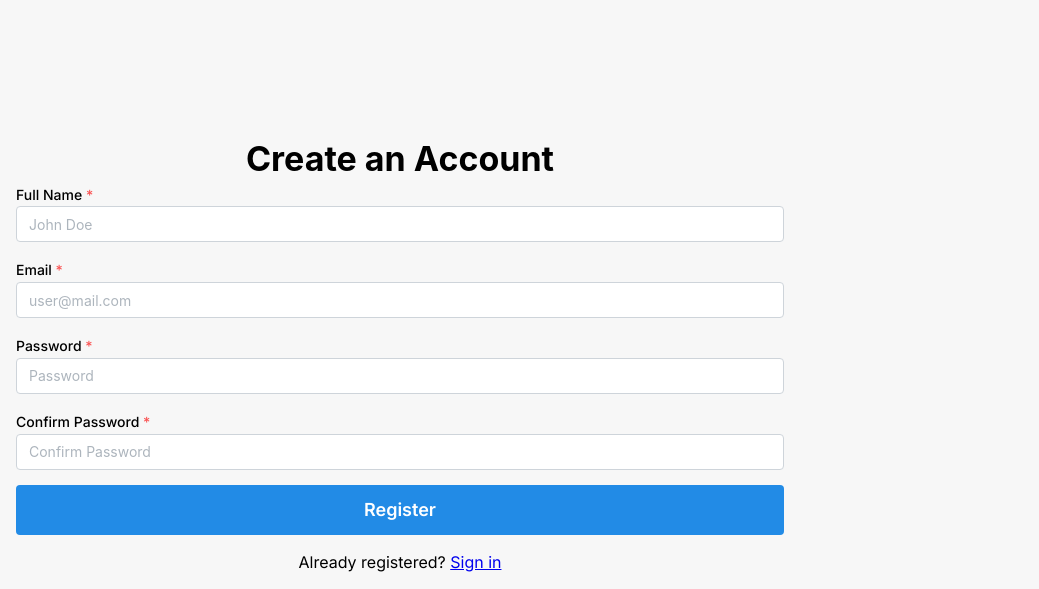
Test: Registration Page › should show a banner and redirect to login page when success
Type "Test User" into the field named "name" at (400, 224), box x1=16 y1=206 x2=784 y2=242
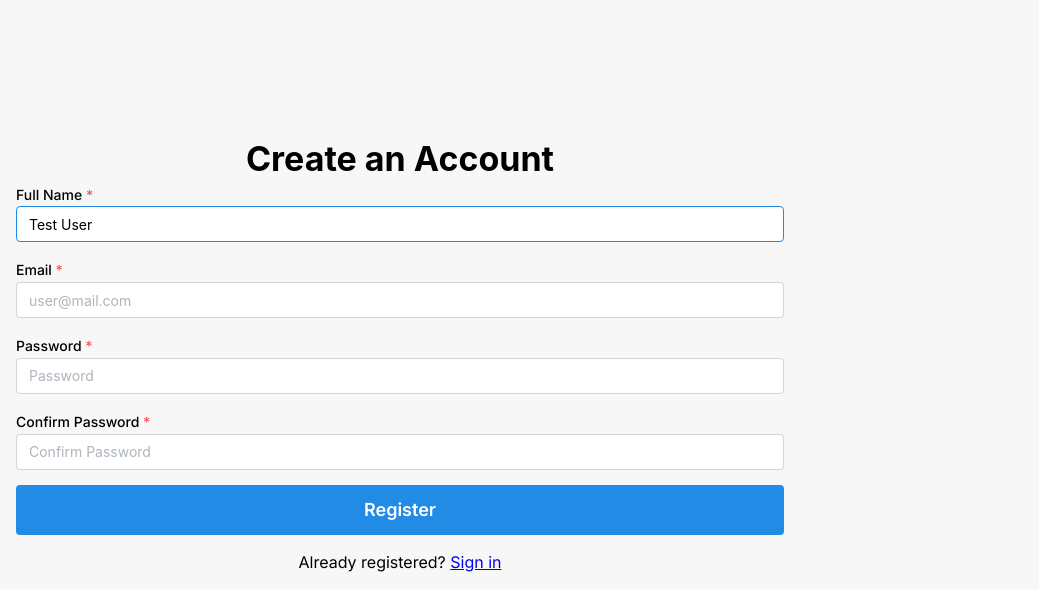
Type "test@example.com" into the field named "email" at (400, 300), box x1=16 y1=282 x2=784 y2=318
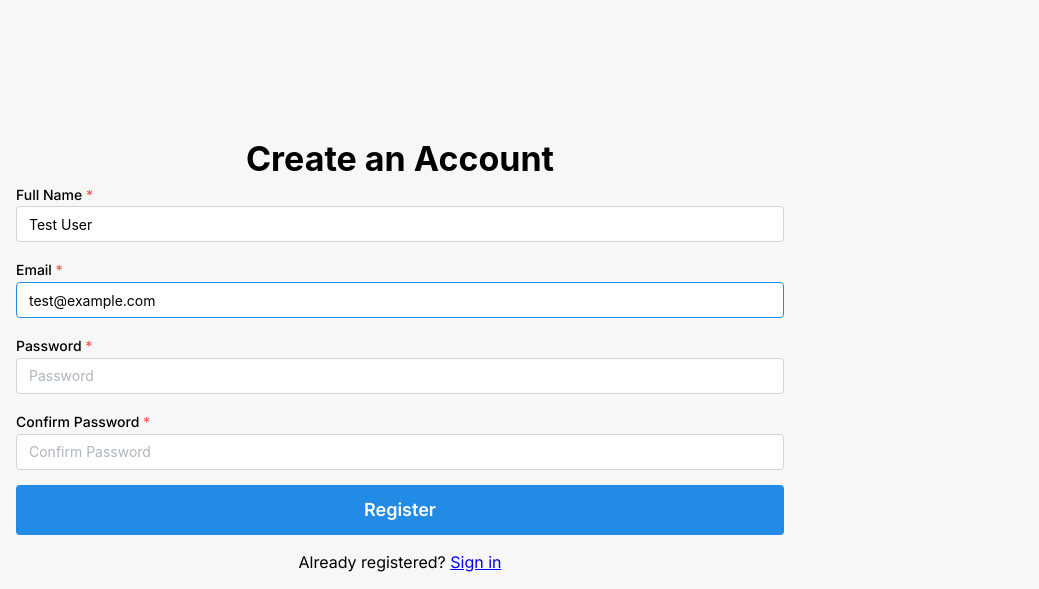
Type "password123" into the password field named "password" at (400, 376), box x1=16 y1=358 x2=784 y2=394
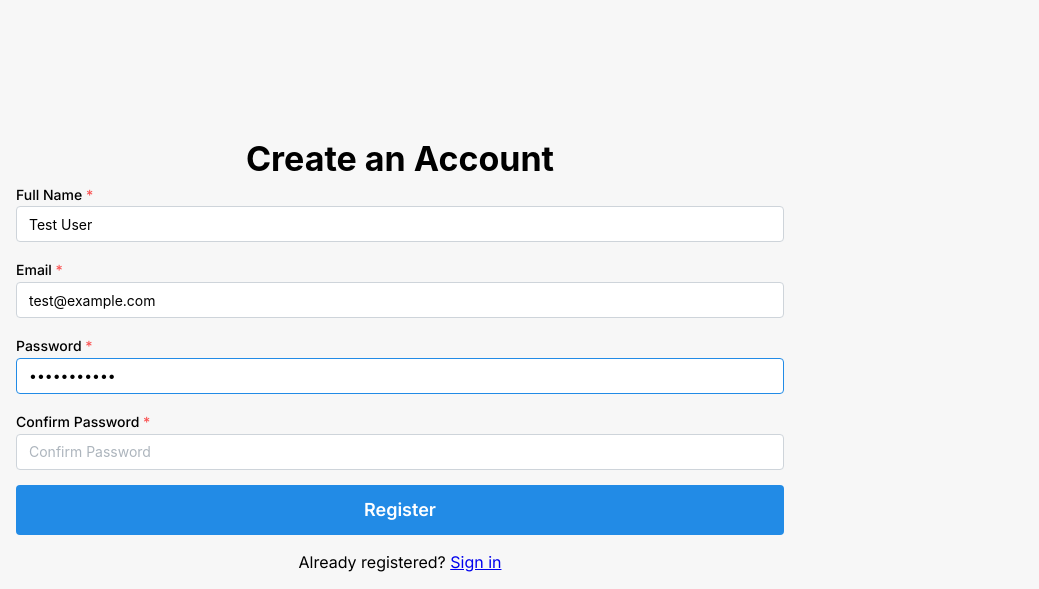
Type "password123" into the password field named "confirmPassword" at (400, 452), box x1=16 y1=434 x2=784 y2=470
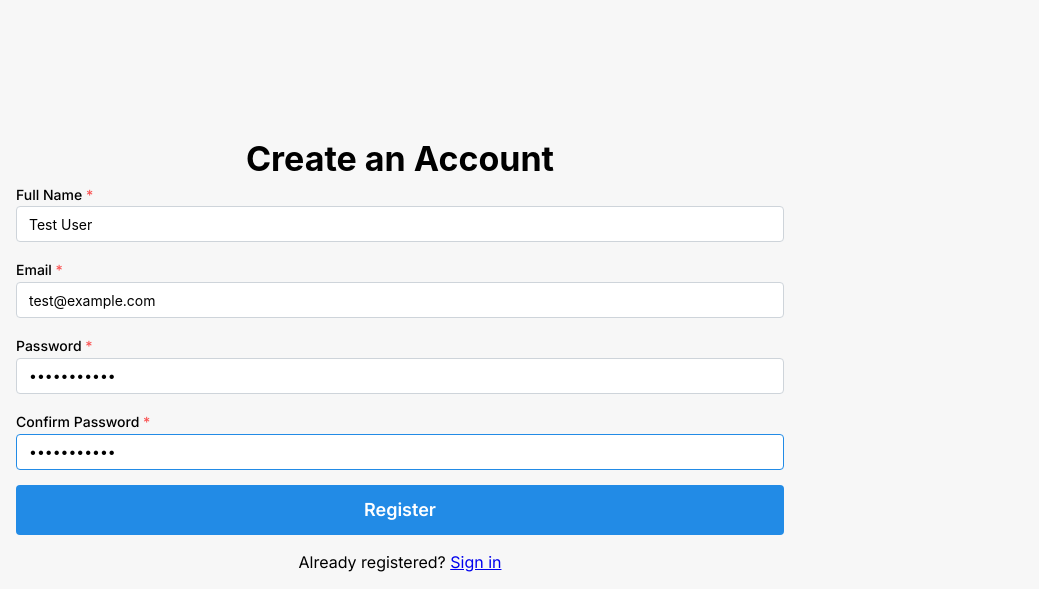
Click the submit button at (400, 510), box x1=16 y1=485 x2=784 y2=535
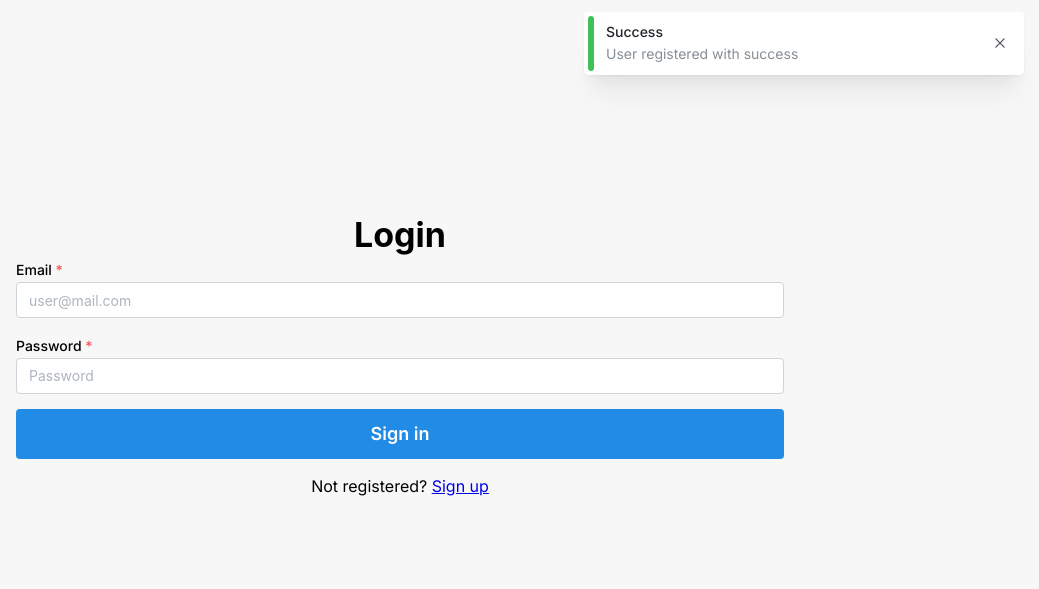
Result: the text "Success" is shown at x1=606 y1=23 x2=663 y2=40
Result: the text "User registered with success" is shown at x1=606 y1=45 x2=798 y2=62
